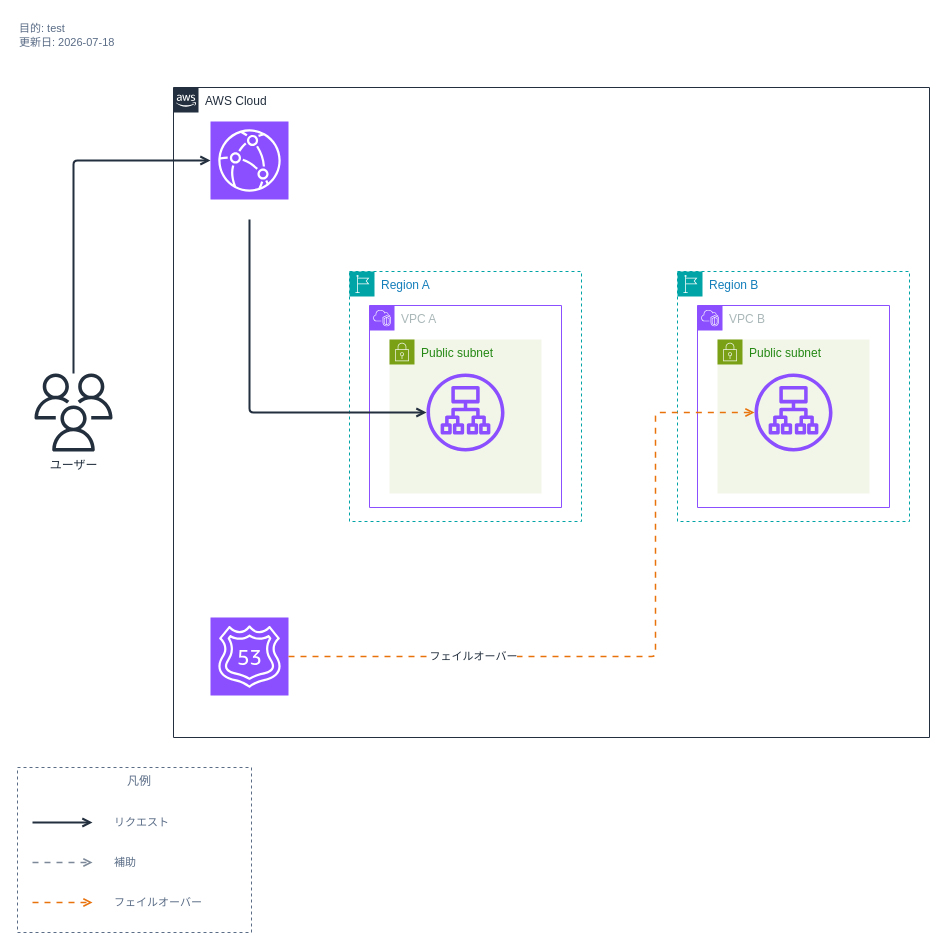
This 947x950 diagram has some shape labels left out. Each missing label, with the centre of its shape:
"ALB" goes at point (465, 412).
"ALB (DR)" goes at point (793, 412).
"CloudFront" goes at point (249, 160).
"Route 53" goes at point (249, 656).
